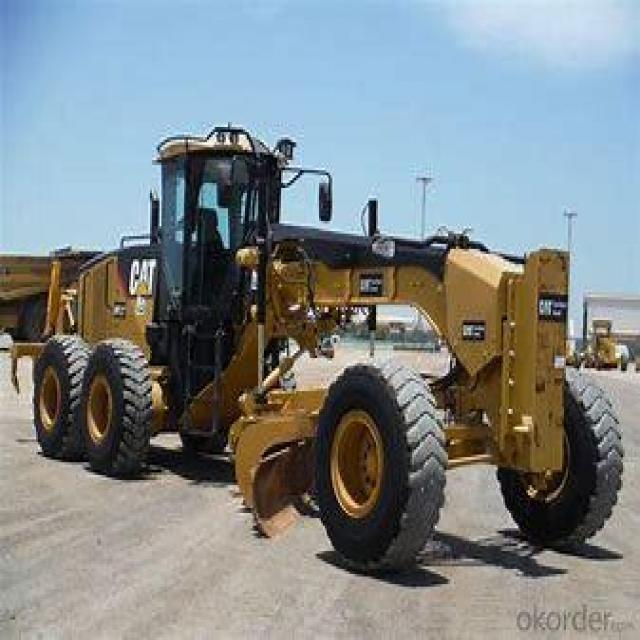Grader: (21, 124, 617, 566)
